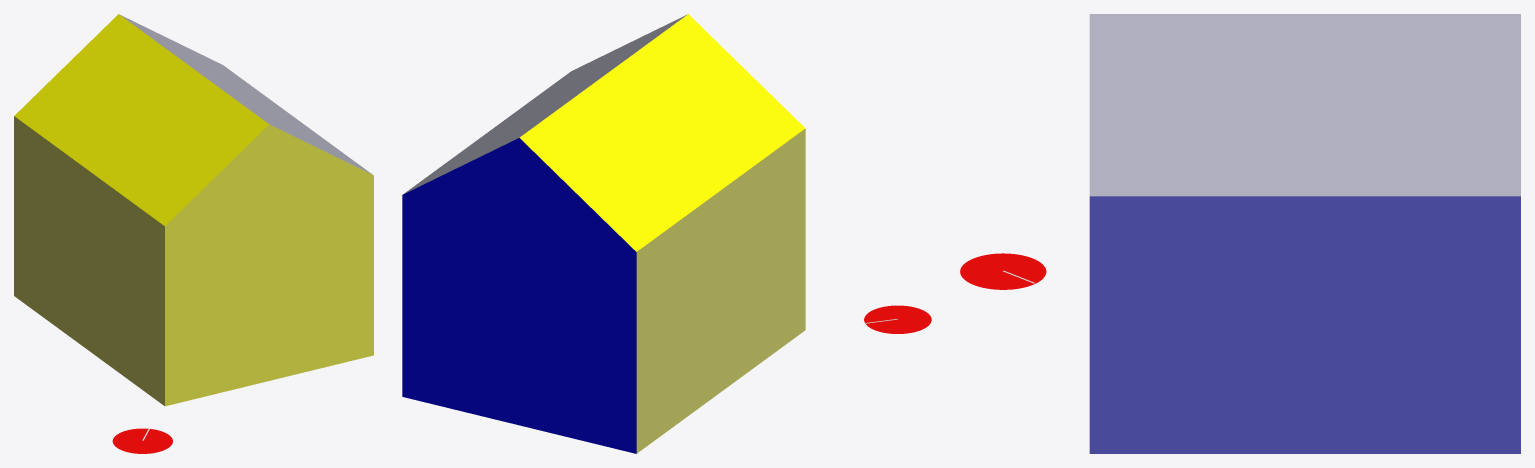
Rendered from result.glb.
3 views of the same model, side by side, from view 1: azimuth 30°, elevation 25°; view 2: azimuth 150°, elevation 25°; view 3: azimuth 270°, elevation 25° (orthographic). The views are drawn at different scales.
Visible parts, largest first — view 1: 33b0d251-d847-4a75-874e-ac666f162af8__undefined, 56db748b-3437-4f51-8009-6f7f39093050__undefined, ca515539-557b-4ef4-bf87-75f8f3778058__undefined, 3e776fea-c596-499c-8547-8769431e62ad__undefined, d95eeec9-d727-4ee8-8003-546feae9c932__Circle; view 2: 0811a469-baf6-4417-b865-7aecfe13d0eb__undefined, 56db748b-3437-4f51-8009-6f7f39093050__undefined, ca515539-557b-4ef4-bf87-75f8f3778058__undefined, 3e776fea-c596-499c-8547-8769431e62ad__undefined, d95eeec9-d727-4ee8-8003-546feae9c932__Circle; view 3: 7ee25994-4329-42db-83b4-f2472c4995e4__undefined, 3e776fea-c596-499c-8547-8769431e62ad__undefined, d95eeec9-d727-4ee8-8003-546feae9c932__Circle.
Part boxes in pixels (x1,y1,x2,y2): 33b0d251-d847-4a75-874e-ac666f162af8__undefined: [165, 124, 373, 406]; 56db748b-3437-4f51-8009-6f7f39093050__undefined: [14, 116, 164, 405]; ca515539-557b-4ef4-bf87-75f8f3778058__undefined: [14, 14, 268, 225]; 3e776fea-c596-499c-8547-8769431e62ad__undefined: [119, 14, 372, 174]; d95eeec9-d727-4ee8-8003-546feae9c932__Circle: [112, 428, 172, 453]; 0811a469-baf6-4417-b865-7aecfe13d0eb__undefined: [402, 138, 636, 453]; 56db748b-3437-4f51-8009-6f7f39093050__undefined: [636, 128, 805, 453]; ca515539-557b-4ef4-bf87-75f8f3778058__undefined: [519, 14, 805, 251]; 3e776fea-c596-499c-8547-8769431e62ad__undefined: [403, 14, 687, 194]; d95eeec9-d727-4ee8-8003-546feae9c932__Circle: [864, 305, 931, 333]; 7ee25994-4329-42db-83b4-f2472c4995e4__undefined: [1089, 196, 1520, 453]; 3e776fea-c596-499c-8547-8769431e62ad__undefined: [1089, 14, 1520, 196]; d95eeec9-d727-4ee8-8003-546feae9c932__Circle: [960, 253, 1046, 289].
Size of the model in its own units: 550 by 469 by 650.
